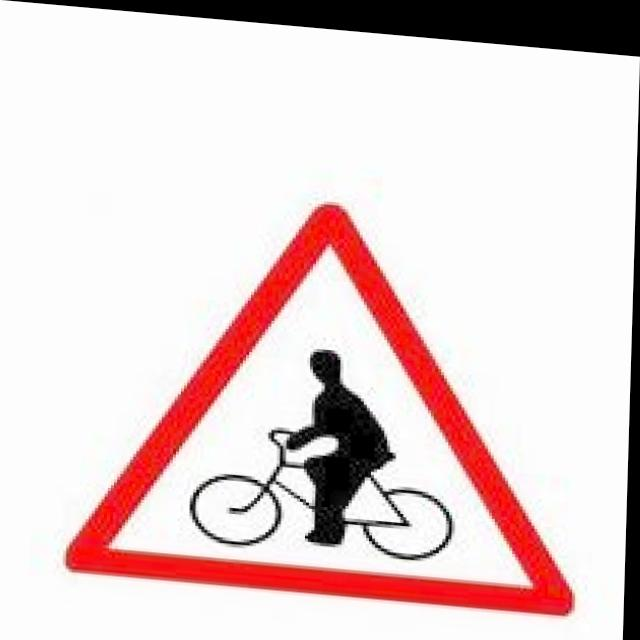CYCLE_CROSSING: (56, 167, 590, 639)
